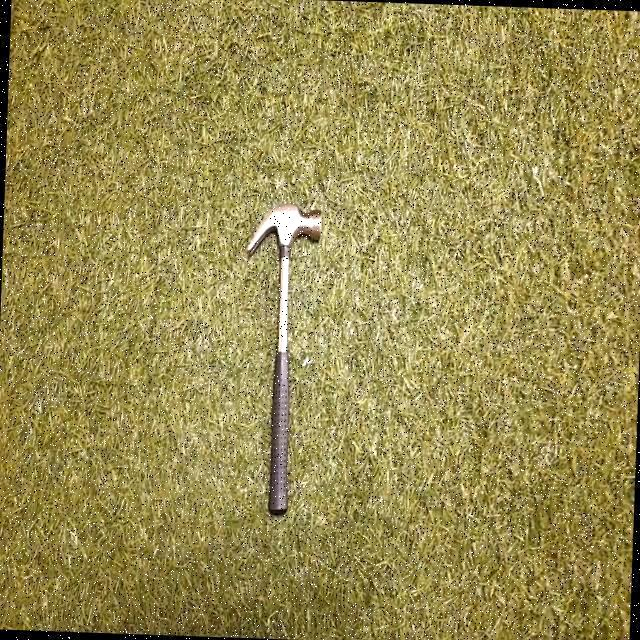hammer: (237, 202, 327, 516)
